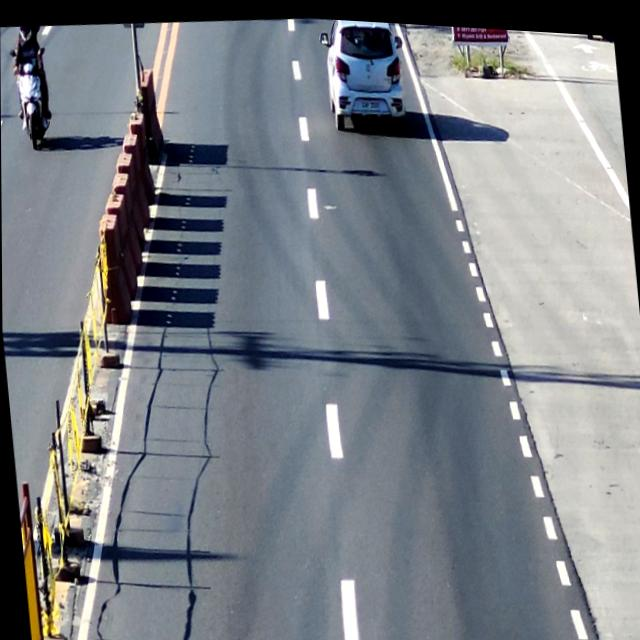Car: (317, 15, 409, 131)
License-Plate: (357, 88, 383, 112)
